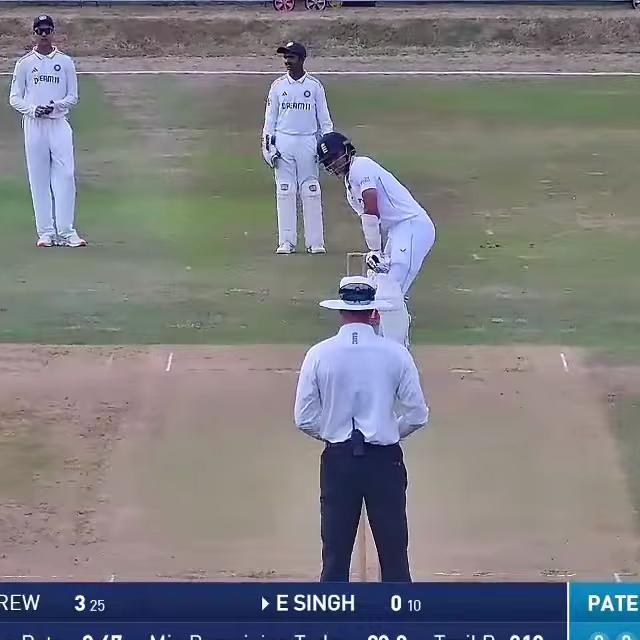umpire: (276, 268, 444, 584)
